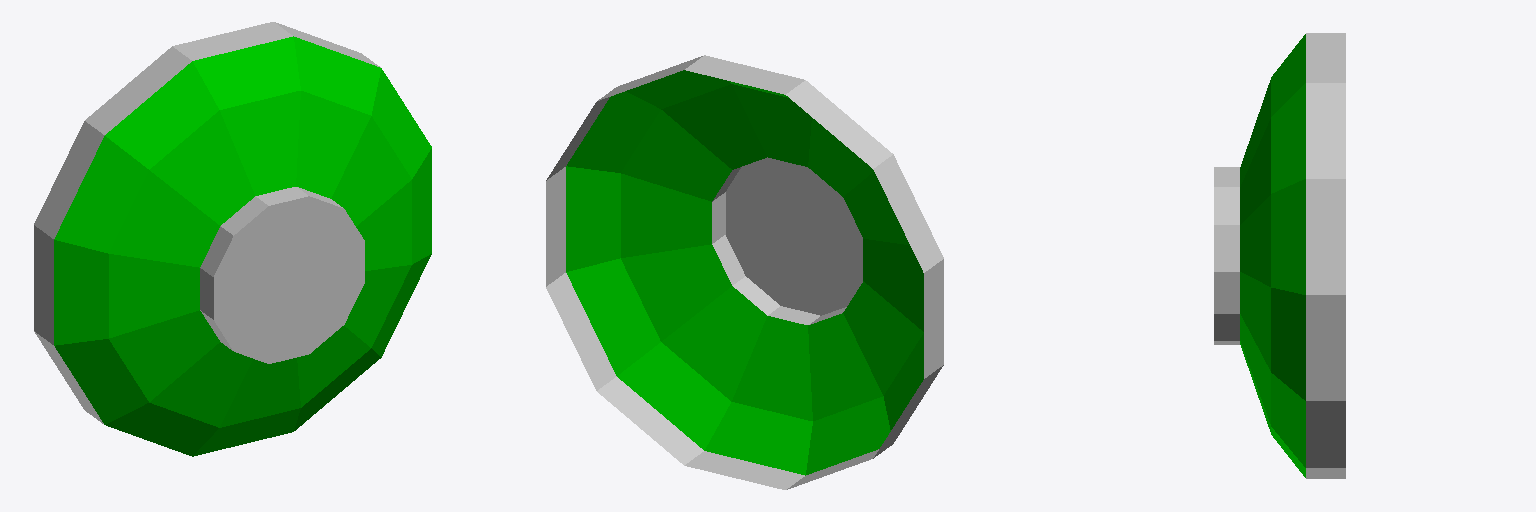
File: Track0Button.obj
3 views of the same model, side by side, from view 1: azimuth 30°, elevation 25°; view 2: azimuth 150°, elevation 25°; view 3: azimuth 270°, elevation 25° (orthographic).
Visible parts, largest first — view 1: Circle_Circle; view 2: Circle_Circle; view 3: Circle_Circle.
Boxes of the visible parts, x1,y1,x2,y2 form: Circle_Circle: [34, 22, 431, 456]; Circle_Circle: [546, 55, 943, 489]; Circle_Circle: [1214, 33, 1345, 478].
Size of the model in its own units: 0.9852 by 0.9852 by 0.2992.